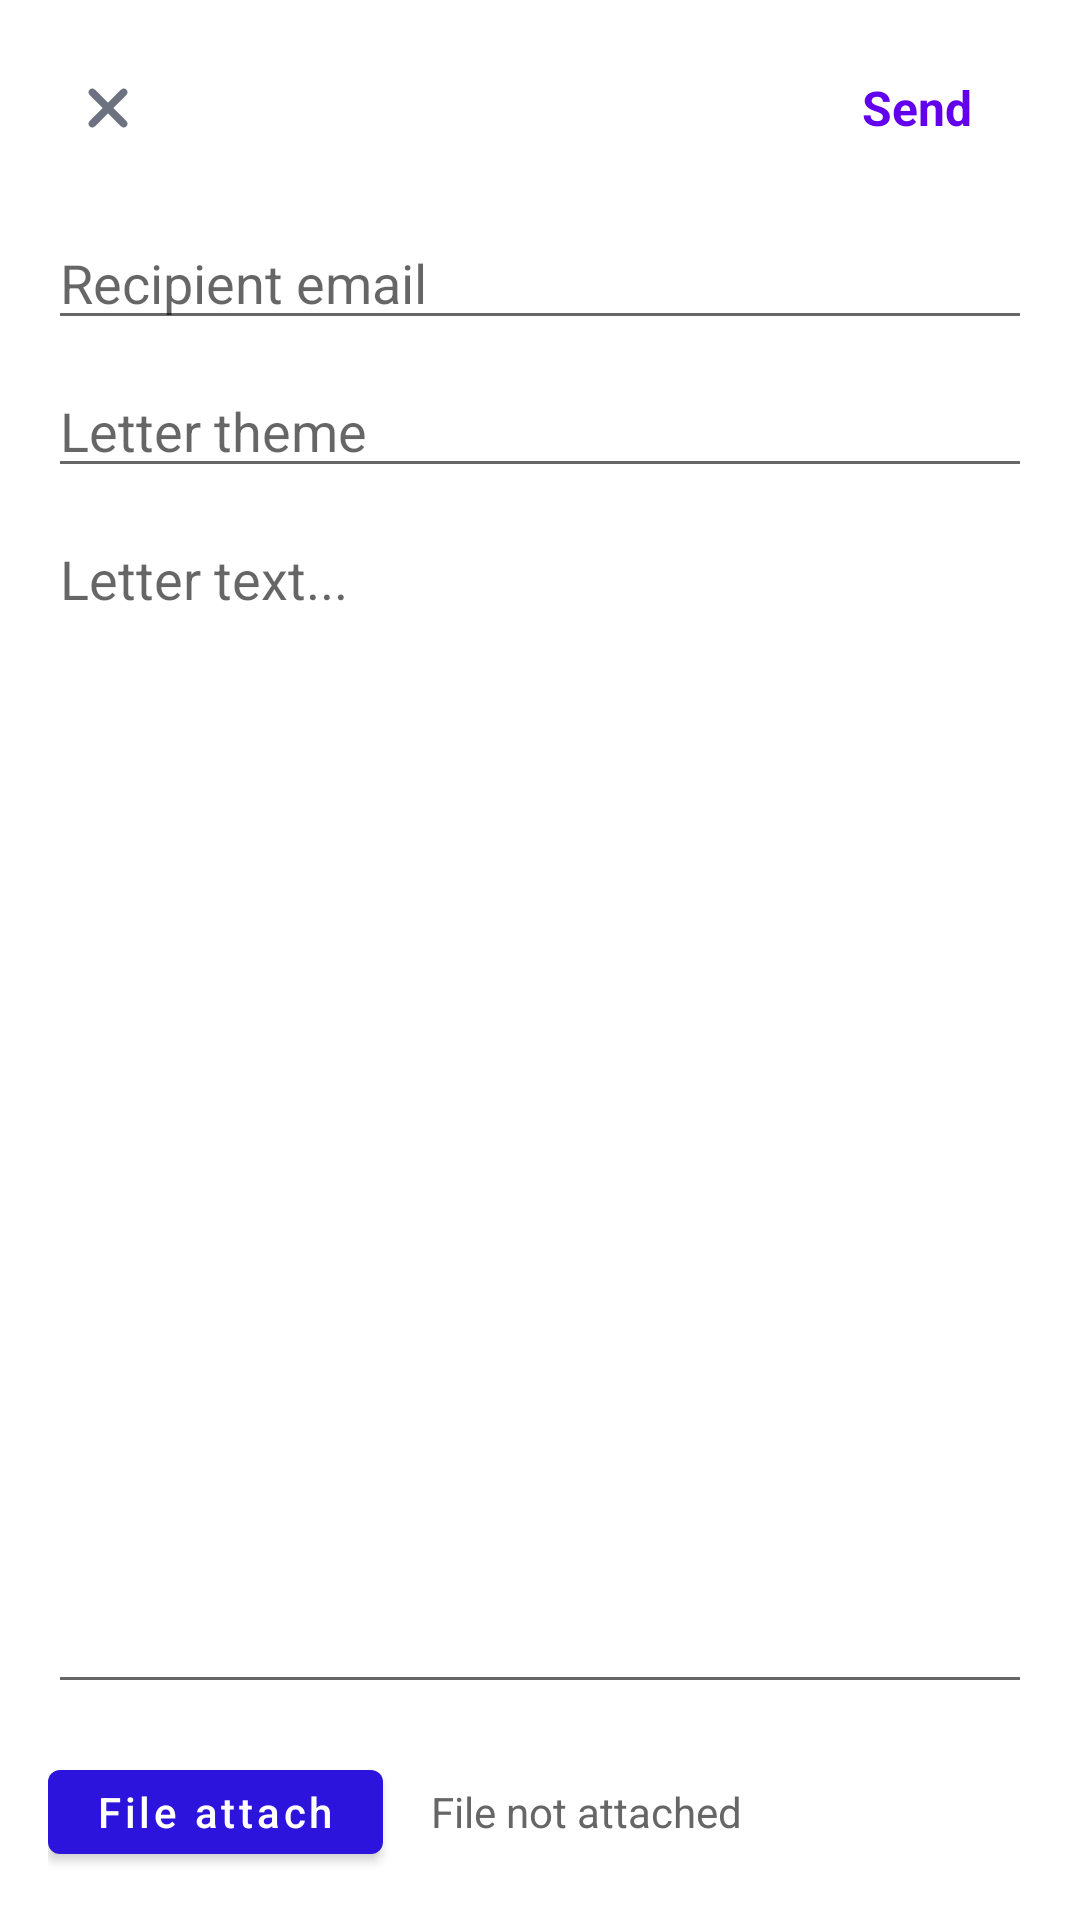

Where to tap for icons on this 1080w x 1920h app screen, as (x,y):
close: (108,108)
